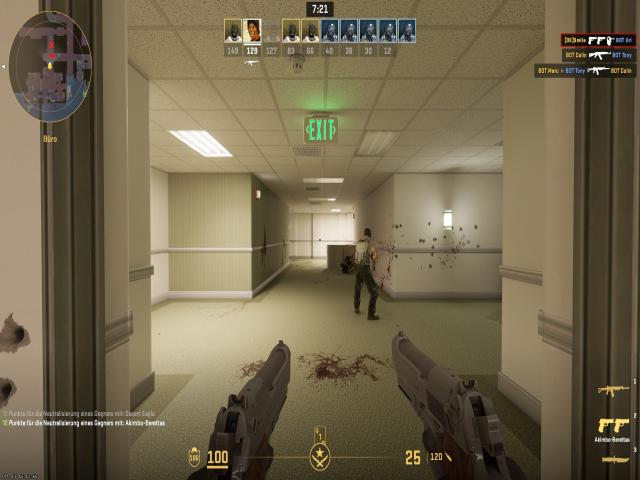Dead: (342, 254, 355, 278)
T: (356, 226, 377, 312)
T-Head: (363, 228, 373, 239)
